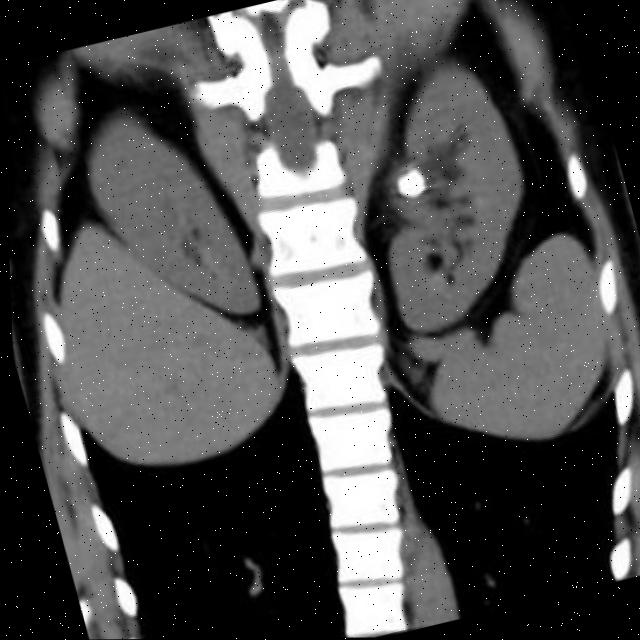Tas_Var: (390, 160, 434, 209)
